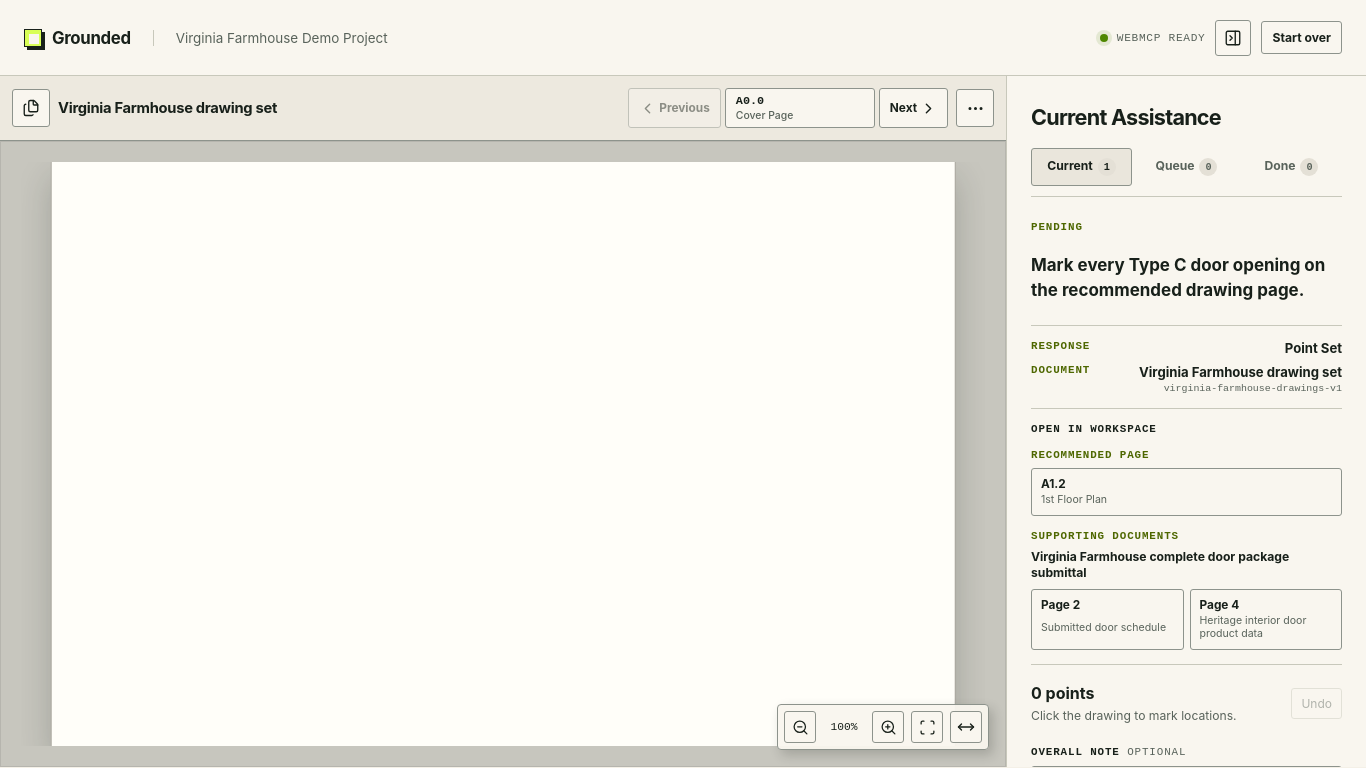
supporting references preserve the Point Set draft and returning to the target resumes placement
Expected: the text "WebMCP ready" is shown, [1117,32,1205,44]
Expected: the text "Mark every Type C door opening on the recommended drawing page." is shown, [1031,253,1342,303]
Click the button with aria-label "Open A1.2: 1st Floor Plan" at x=1074, y=500, box [1031,468,1342,516]
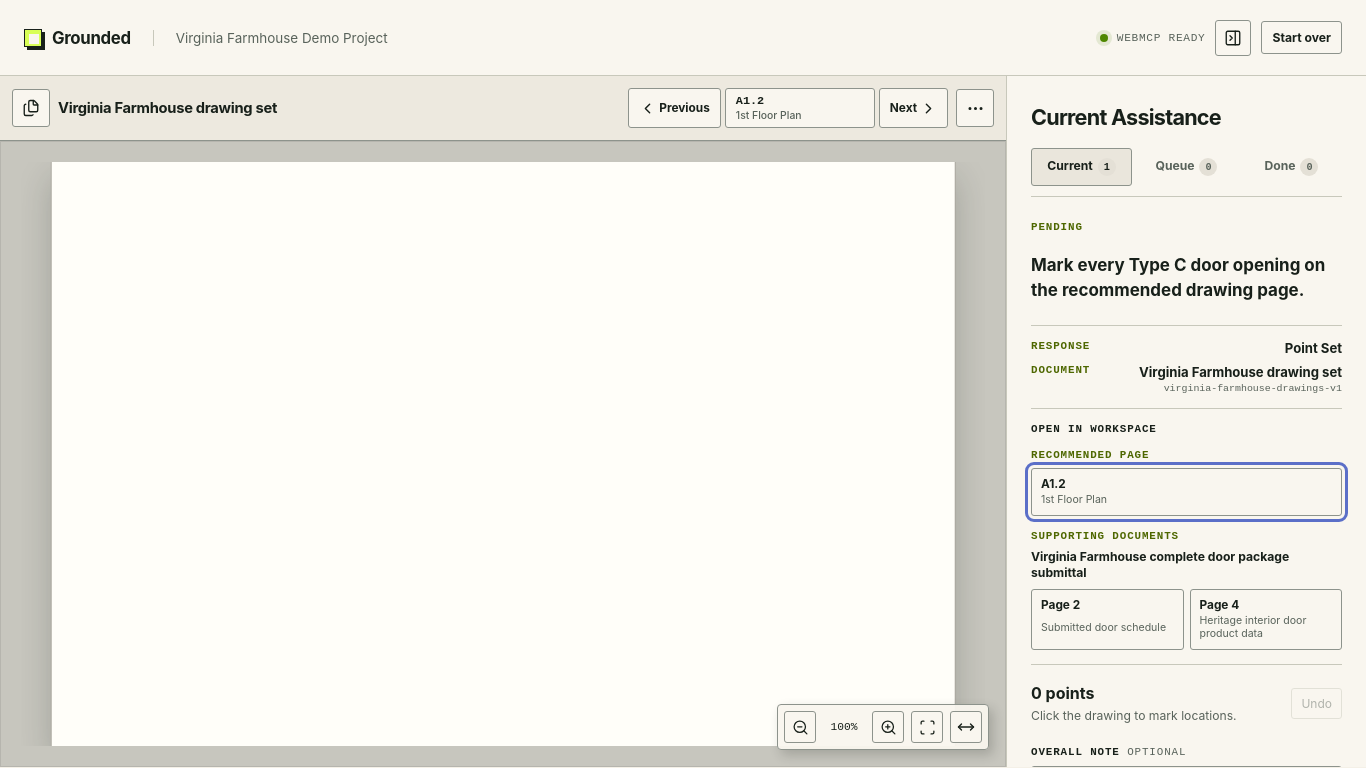
Click the element named "Drawing page A1.2" at x=503, y=454, box [52,162,954,746]
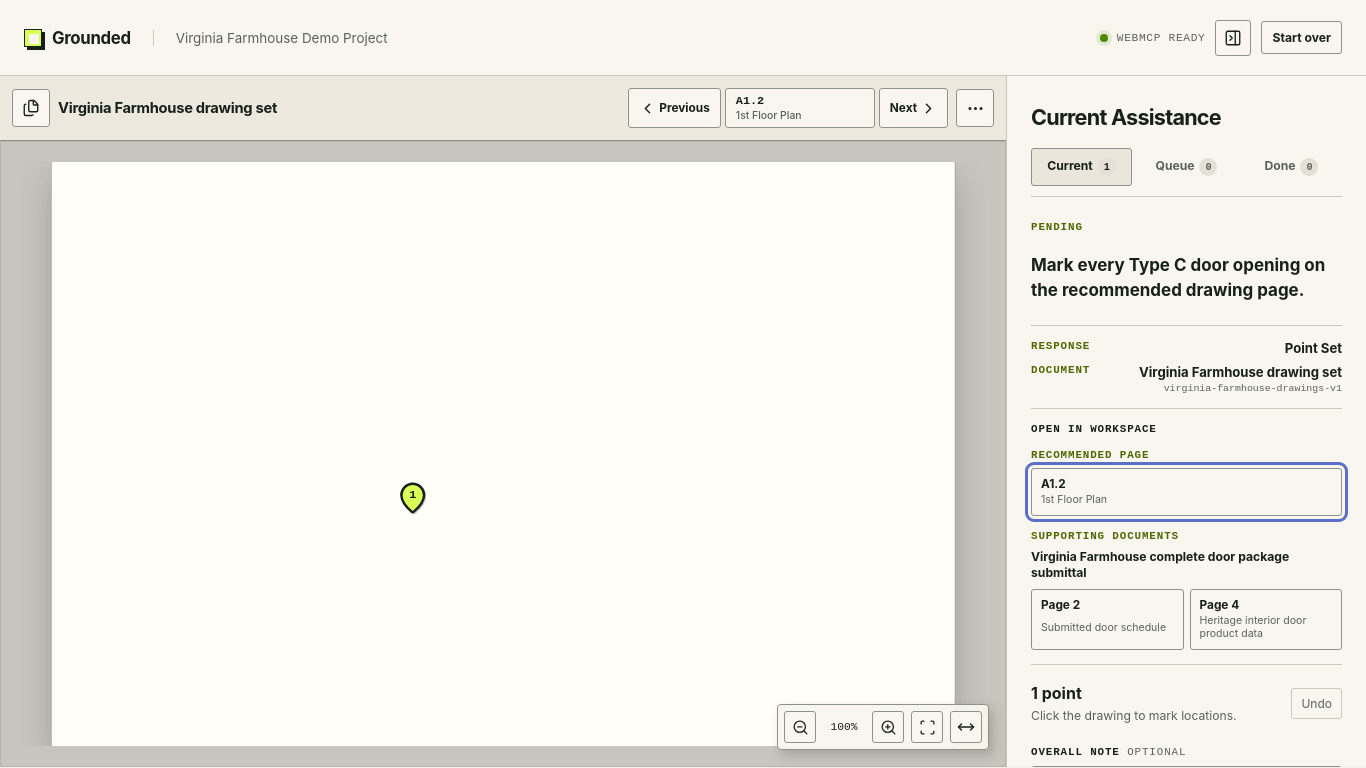
Expected: the text "1 point" is shown, [1031,683,1082,703]
Click the button named "Zoom in" at x=888, y=727, box [872,711,904,743]
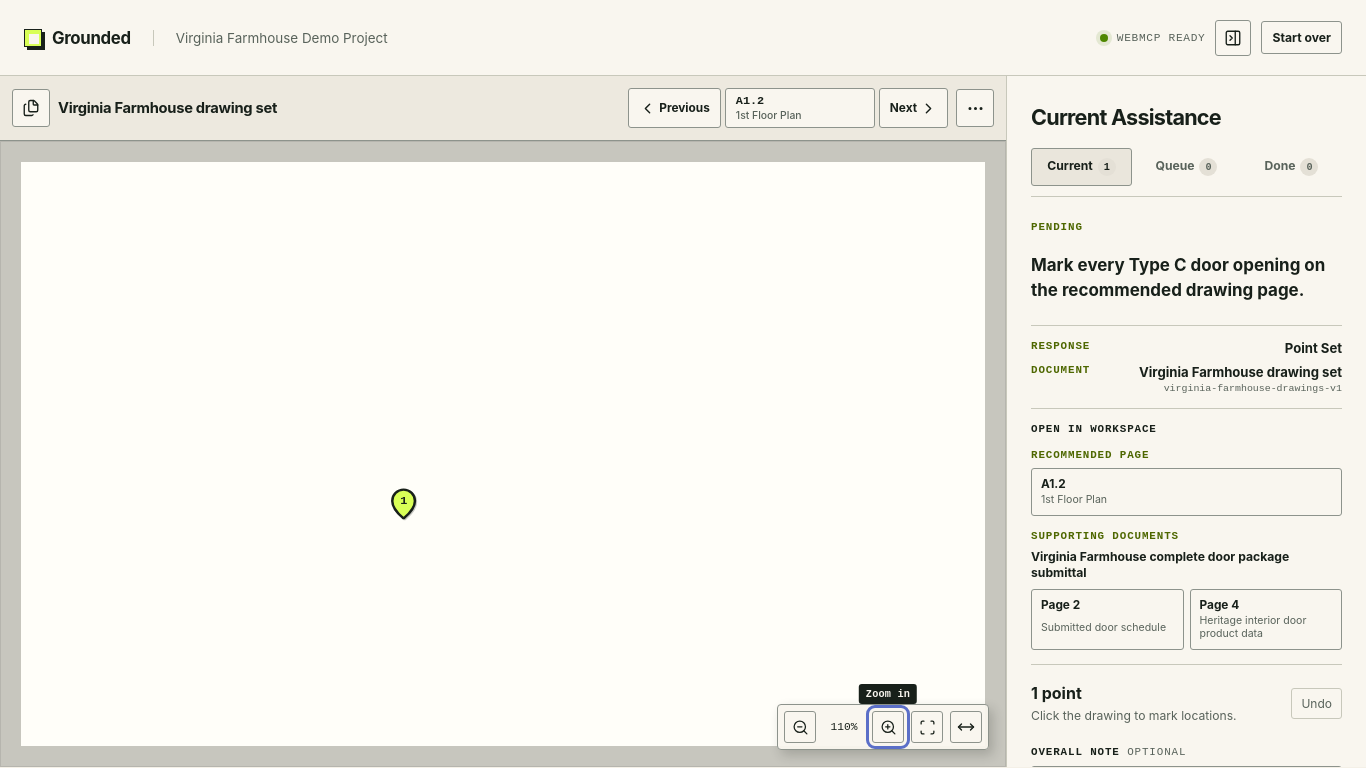
Click the button with aria-label "Open supporting page 4: Heritage interior door product data" at x=1266, y=619, box [1190,589,1342,650]
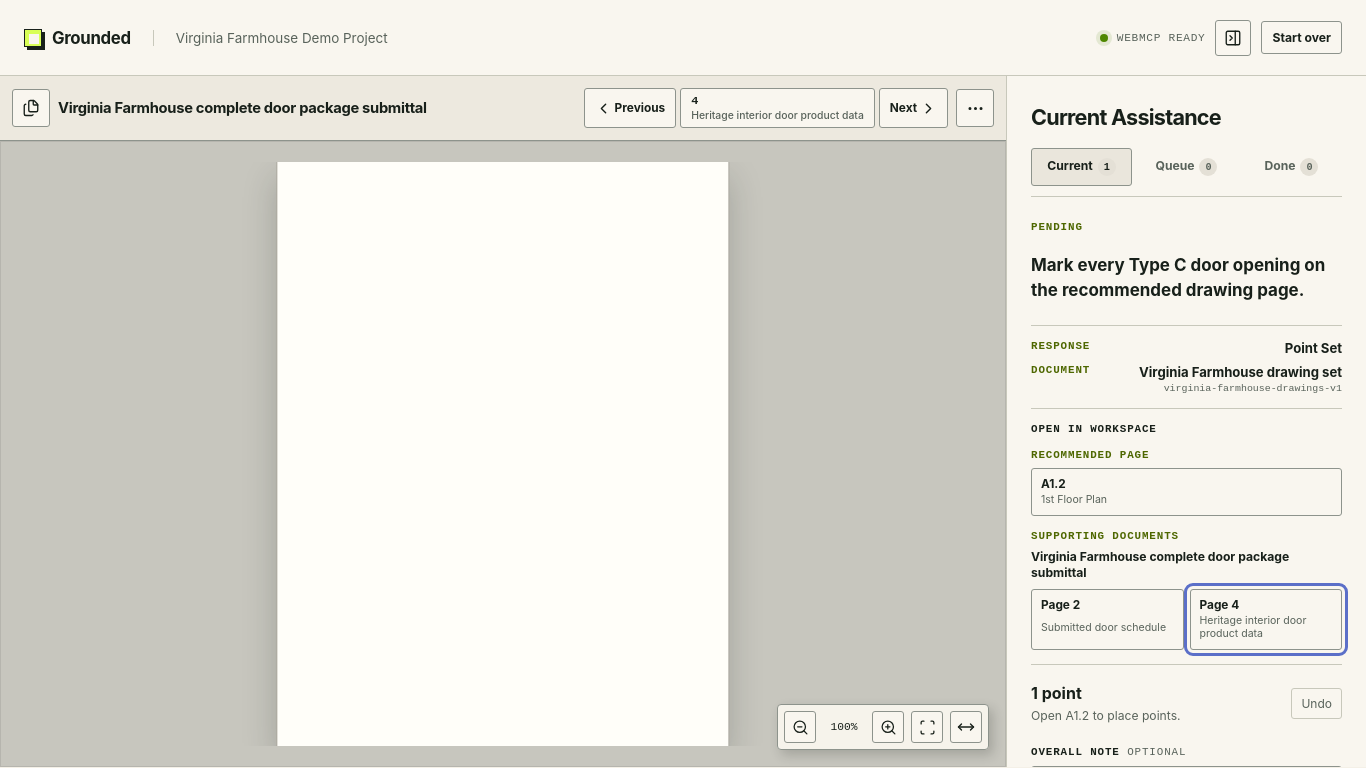
Expected: the text "1 point" is shown, [1031,683,1082,703]
Expected: the heading "Virginia Farmhouse complete door package submittal" is shown, [58,99,427,117]
Expected: the text "100%" is shown, [831,721,858,733]
Click the button named "Hide Assistance" at x=1234, y=38, box [1216,20,1252,56]
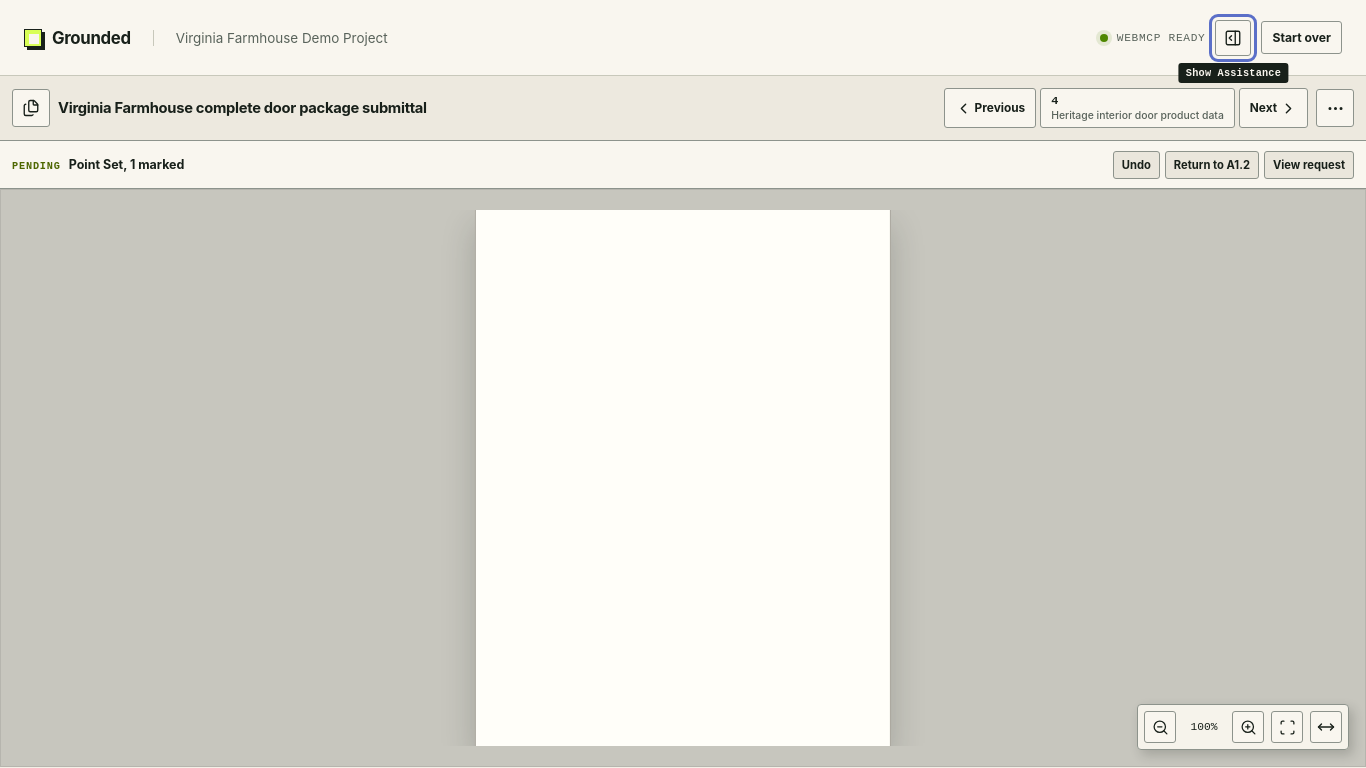
Expected: the text "Point Set, 1 marked" is shown, [69,157,184,172]
Click the button "Return to A1.2" at x=1212, y=164, box [1165,150,1259,178]
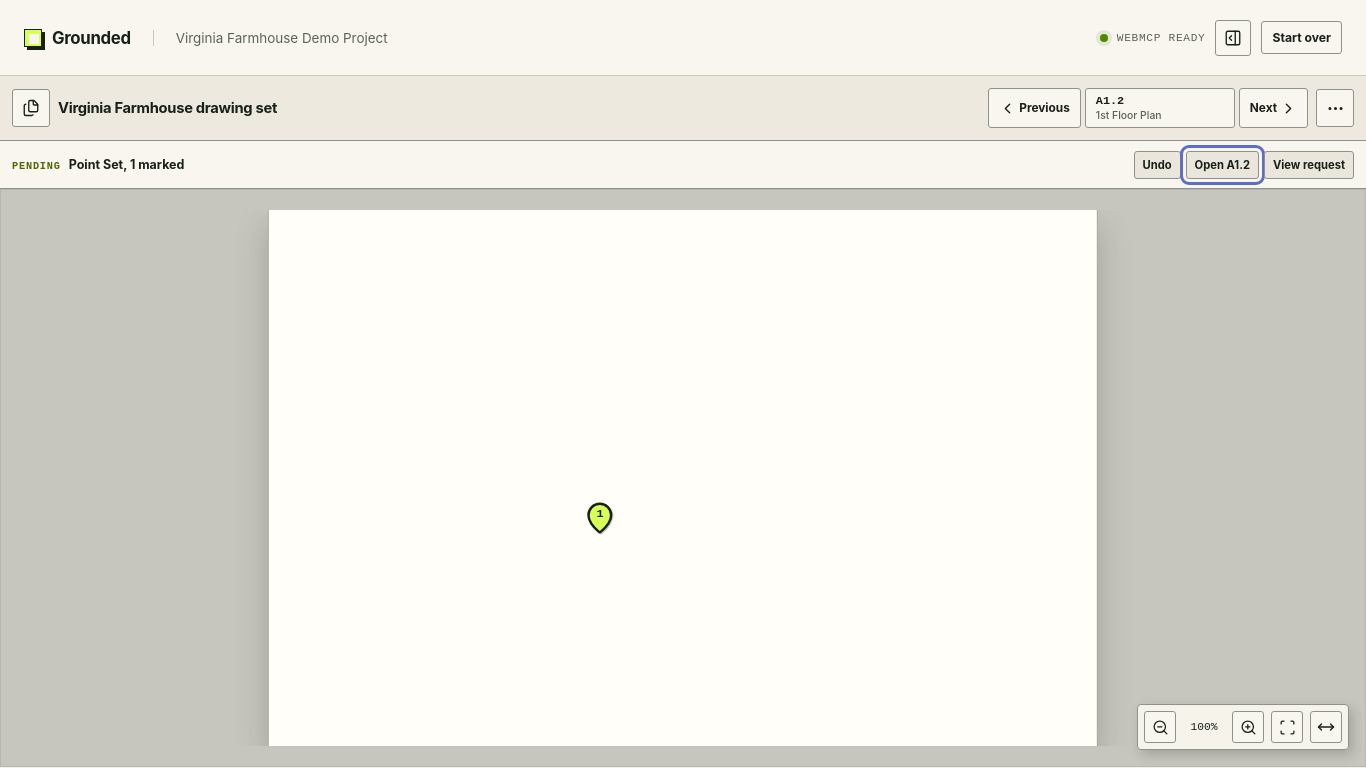
Expected: the text "1" is shown, [597,507,604,521]
